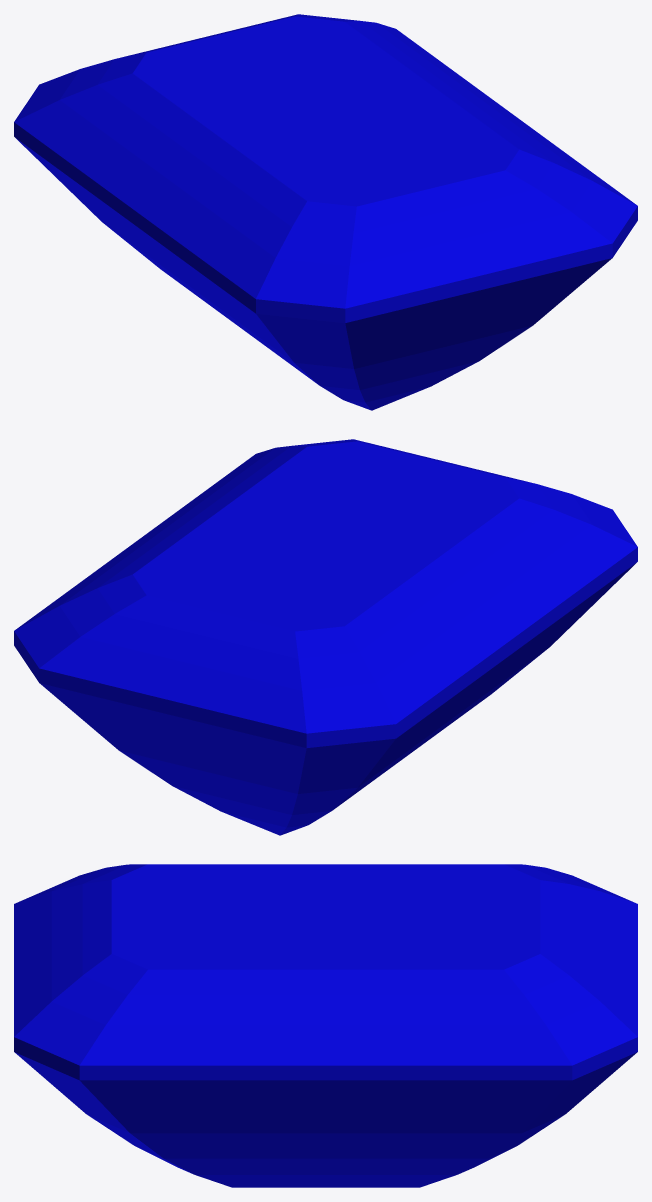
File: Head_No Halo_Emerald_0.75ct_Diamond.glb
3 views of the same model, one above another, from view 1: azimuth 30°, elevation 25°; view 2: azimuth 150°, elevation 25°; view 3: azimuth 270°, elevation 25° (orthographic).
Bounding box in the file's own units: 0.00451 × 0.003 × 0.00626.
